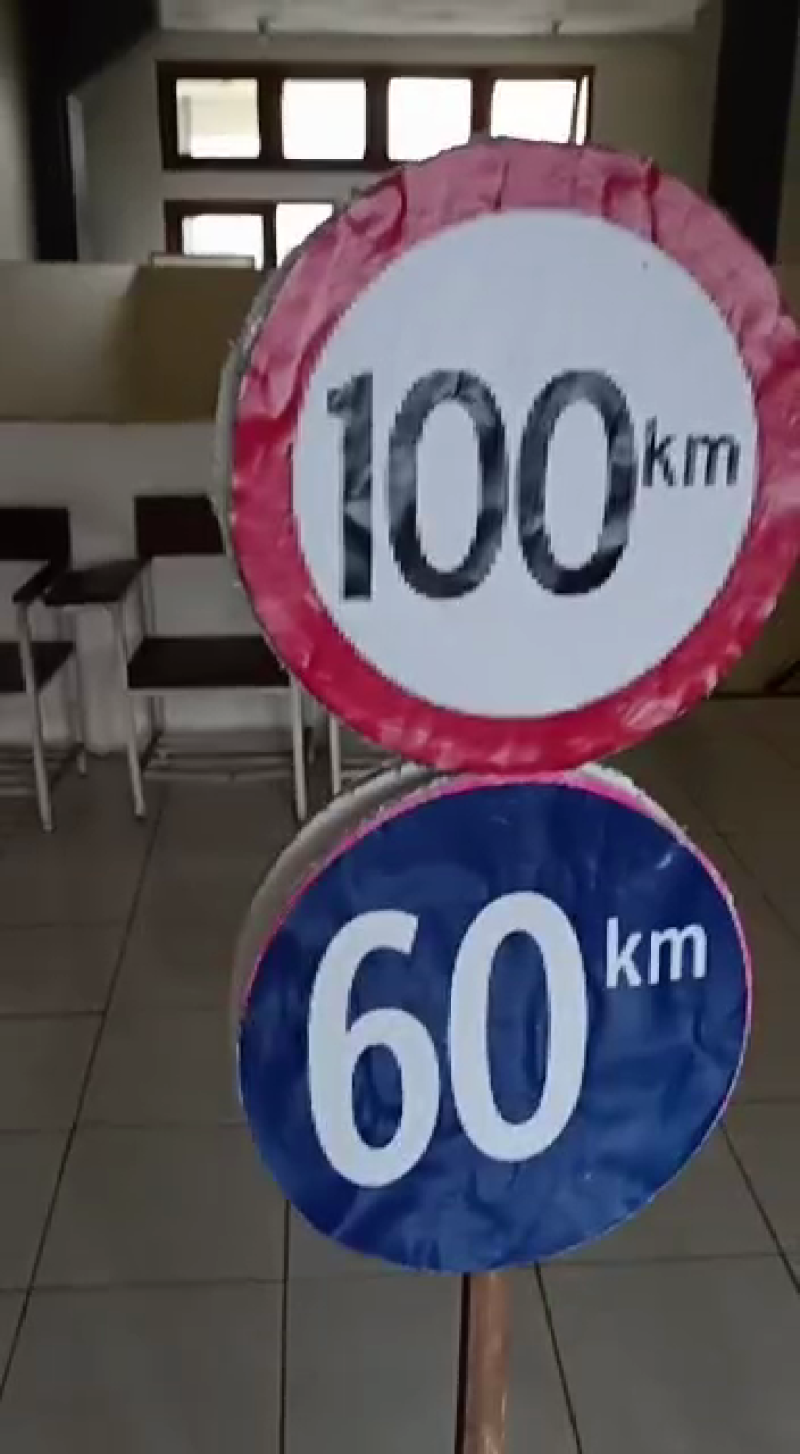batas maksimal 100kmperjam minimal 60kmperjam: (173, 103, 800, 1292)
